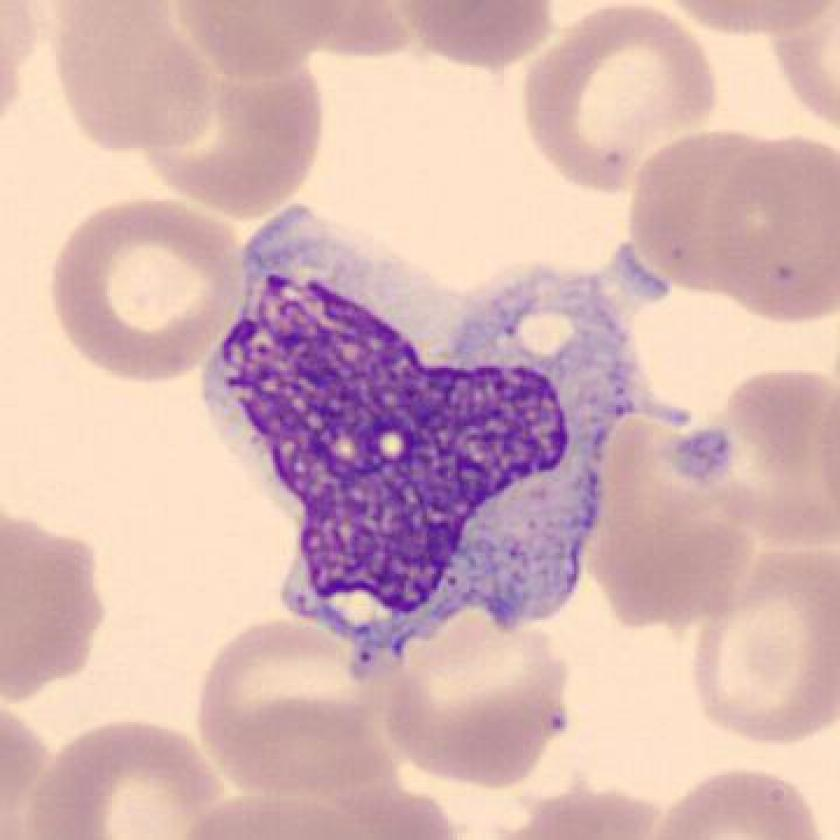monocyte: (188, 182, 706, 668)
